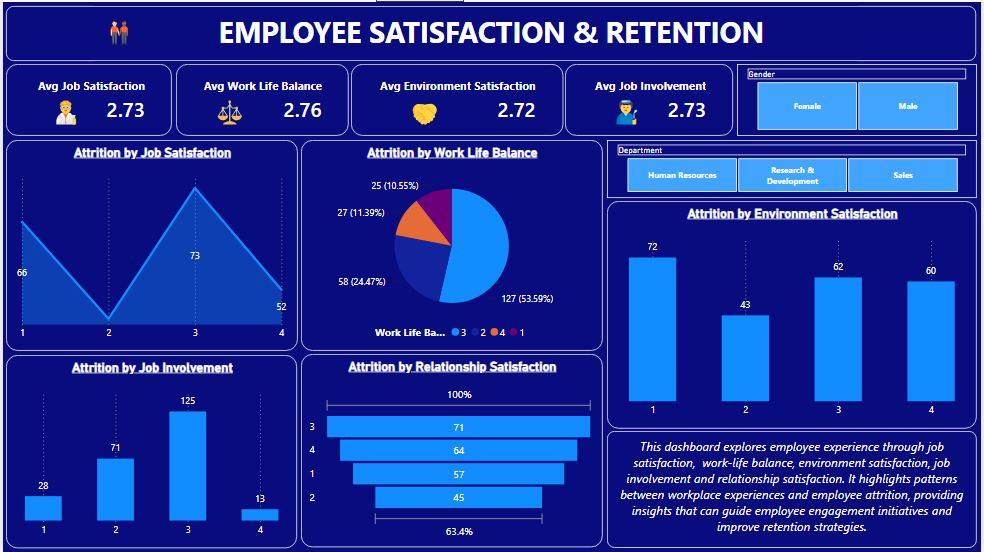

What the dashboard file says about the page in this screenshot:
{"tool":"powerbi","page":{"name":"Employee Satisfaction & Retention","canvas":[1280,720],"ordinal":3},"visuals":[{"type":"cardVisual","fields":{"Data":["HR Measure.Average Job Satisfaction"]},"box":[4.3,80.6,217.4,93.6],"z":0},{"type":"cardVisual","fields":{"Data":["HR Measure.Avg Work Life Balance"]},"box":[226.1,80.6,226.1,93.6],"z":1000},{"type":"cardVisual","fields":{"Data":["HR Measure.Avg Environment Satisfaction"]},"box":[455,80.6,277.9,93.6],"z":2000},{"type":"cardVisual","fields":{"Data":["HR Measure.Avg Job Involvement"]},"box":[735.8,80.6,220.3,93.6],"z":3000},{"type":"stackedAreaChart","fields":{"Category":["HR Data.Job Satisfaction"],"Y":["HR Measure.Attrition"]},"box":[4.3,180,381.6,276.5],"z":4000},{"type":"pieChart","fields":{"Category":["HR Data.Work Life Balance"],"Y":["HR Measure.Attrition"]},"box":[390.2,180,394.6,276.5],"z":5000},{"type":"clusteredColumnChart","fields":{"Y":["HR Measure.Attrition"],"Category":["HR Data.Environment Satisfaction"]},"box":[790.6,260.6,483.8,298.1],"z":6000},{"type":"clusteredColumnChart","fields":{"Y":["HR Measure.Attrition"],"Category":["HR Data.Job Involvement"]},"box":[4.4,462.6,381.3,252.7],"z":7000},{"type":"funnel","fields":{"Category":["HR Data.Relationship Satisfaction"],"Y":["HR Measure.Attrition"]},"box":[390.2,461.2,394.6,252.7],"z":8000},{"type":"textbox","box":[4.3,5.8,1270.1,72],"z":9000},{"type":"slicer","fields":{"Values":["HR Data.Department"]},"box":[790.6,180,483.8,76.3],"z":10000},{"type":"slicer","fields":{"Values":["HR Data.Gender"]},"box":[960.5,80.6,313.9,93.6],"z":11000},{"type":"textbox","box":[790.6,561.6,483.8,152.6],"z":12000},{"type":"textbox","box":[85,10.1,136.8,66.2],"z":13000},{"type":"textbox","box":[20.2,115.2,125.3,56.2],"z":14000},{"type":"textbox","box":[241.9,115.2,109.4,56.2],"z":15000},{"type":"textbox","box":[496.8,115.2,109.4,56.2],"z":16000},{"type":"textbox","box":[761.8,115.2,109.4,56.2],"z":17000}]}

Visuals, with their boxes in screenshot pixels (x1, y1, x2, y2), scaled from the page's 1280x720 canvas onto the 984x552 screenshot:
cardVisual - HR Measure.Average Job Satisfaction: 3,62,170,134
cardVisual - HR Measure.Avg Work Life Balance: 174,62,348,134
cardVisual - HR Measure.Avg Environment Satisfaction: 350,62,563,134
cardVisual - HR Measure.Avg Job Involvement: 566,62,735,134
stackedAreaChart - HR Data.Job Satisfaction x HR Measure.Attrition: 3,138,297,350
pieChart - HR Data.Work Life Balance x HR Measure.Attrition: 300,138,603,350
clusteredColumnChart - HR Measure.Attrition x HR Data.Environment Satisfaction: 608,200,980,428
clusteredColumnChart - HR Measure.Attrition x HR Data.Job Involvement: 3,355,297,548
funnel - HR Data.Relationship Satisfaction x HR Measure.Attrition: 300,354,603,547
textbox: 3,4,980,60
slicer - HR Data.Department: 608,138,980,196
slicer - HR Data.Gender: 738,62,980,134
textbox: 608,431,980,548
textbox: 65,8,171,58
textbox: 16,88,112,131
textbox: 186,88,270,131
textbox: 382,88,466,131
textbox: 586,88,670,131
